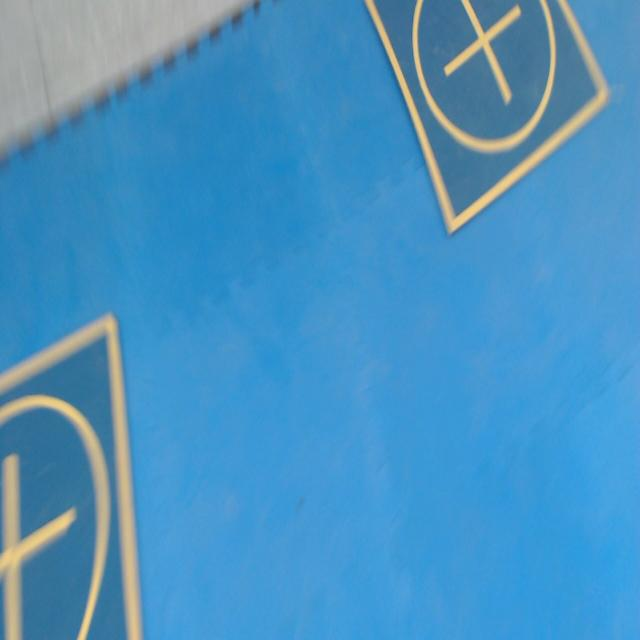base_pouso: (362, 1, 614, 239), (0, 310, 146, 639)
